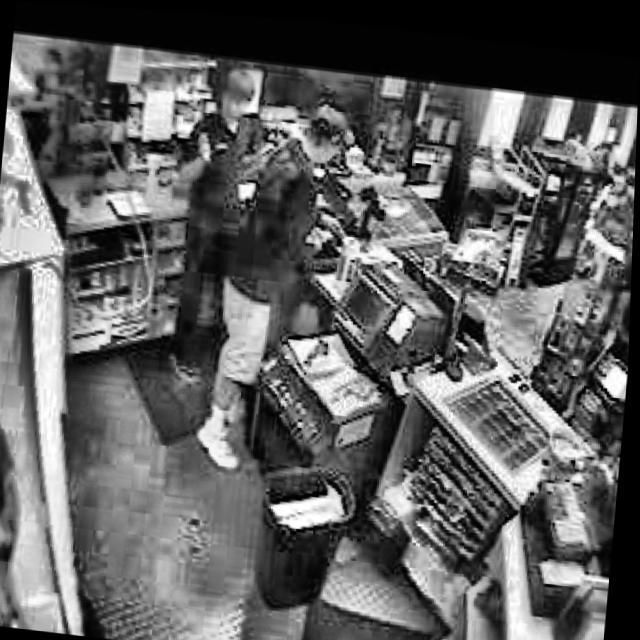Weapon: (174, 50, 346, 488)
